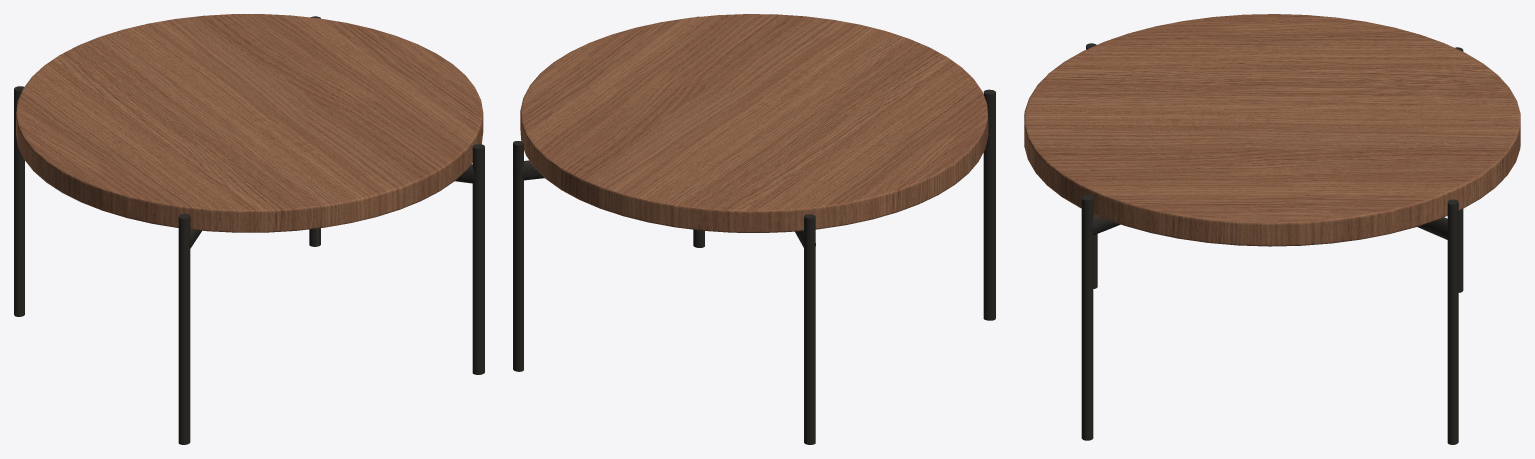
File: mesa_centro.glb
3 renders of one model, left to right at view 1: azimuth 30°, elevation 25°; view 2: azimuth 150°, elevation 25°; view 3: azimuth 270°, elevation 25°, orthographic. The views are drawn at different scales.
Parts seen in each view (by area): view 1: GRANDE, Group1, Group2; view 2: GRANDE, Group2, Group1; view 3: GRANDE, Group1, Group2.
Part boxes in pixels (x1,y1,x2,y2): GRANDE: [16, 14, 483, 232]; Group1: [14, 86, 484, 374]; Group2: [178, 16, 320, 444]; GRANDE: [520, 14, 988, 232]; Group2: [513, 89, 995, 371]; Group1: [693, 16, 815, 444]; GRANDE: [1024, 14, 1520, 246]; Group1: [1081, 47, 1463, 440]; Group2: [1086, 43, 1458, 444].
Size of the model in its own units: 0.75 by 0.41 by 0.75.
Materials: 2 (1 with a texture image).
